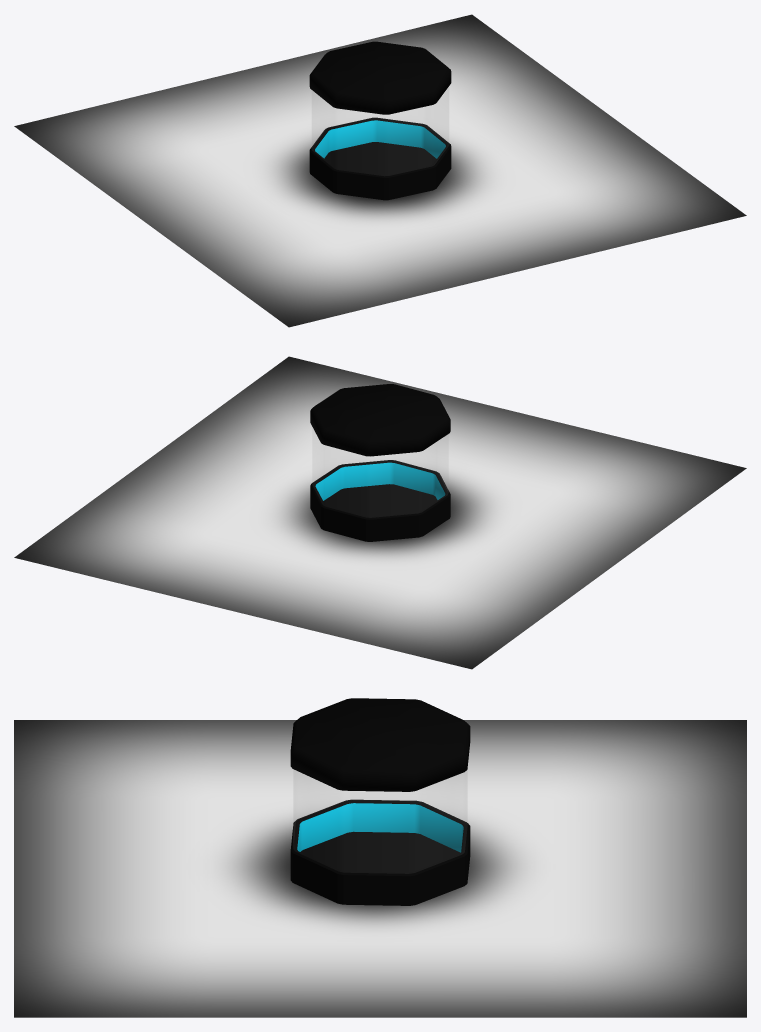
File: Dice_Machine.FBX
3 views of the same model, one above another, from view 1: azimuth 30°, elevation 25°; view 2: azimuth 150°, elevation 25°; view 3: azimuth 270°, elevation 25° (orthographic). The views are drawn at different scales.
Visible parts, largest first — view 1: Dice_Machine; view 2: Dice_Machine; view 3: Dice_Machine.
Boxes of the visible parts, <box> form: Dice_Machine: <box>14,14,746,327</box>; Dice_Machine: <box>14,356,746,669</box>; Dice_Machine: <box>14,698,746,1017</box>.
Size of the model in its own units: 108 by 22.8 by 113.
3 materials, 1 textured.
